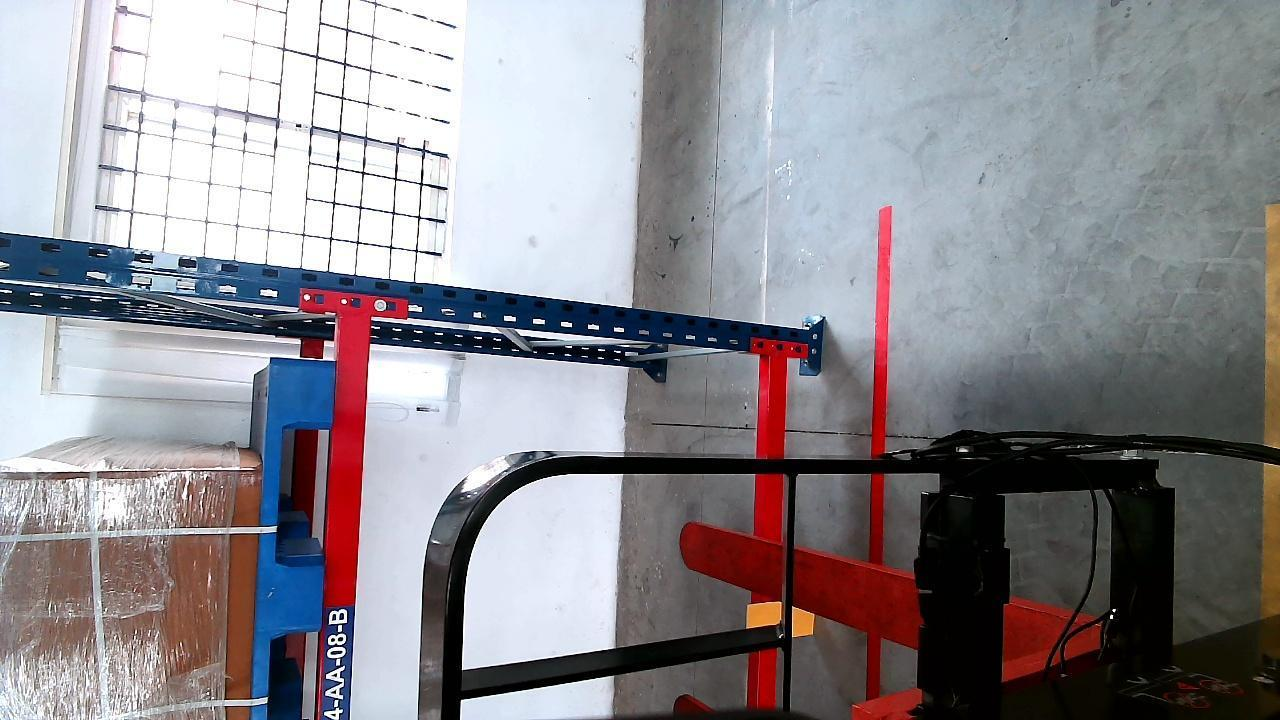h_rack: (323, 312, 374, 720), (753, 335, 788, 715)
orange_strip: (745, 599, 806, 629)
red_line: (865, 205, 893, 707)
small_pallet: (255, 362, 332, 720)
yellow_line: (1259, 204, 1280, 621)
